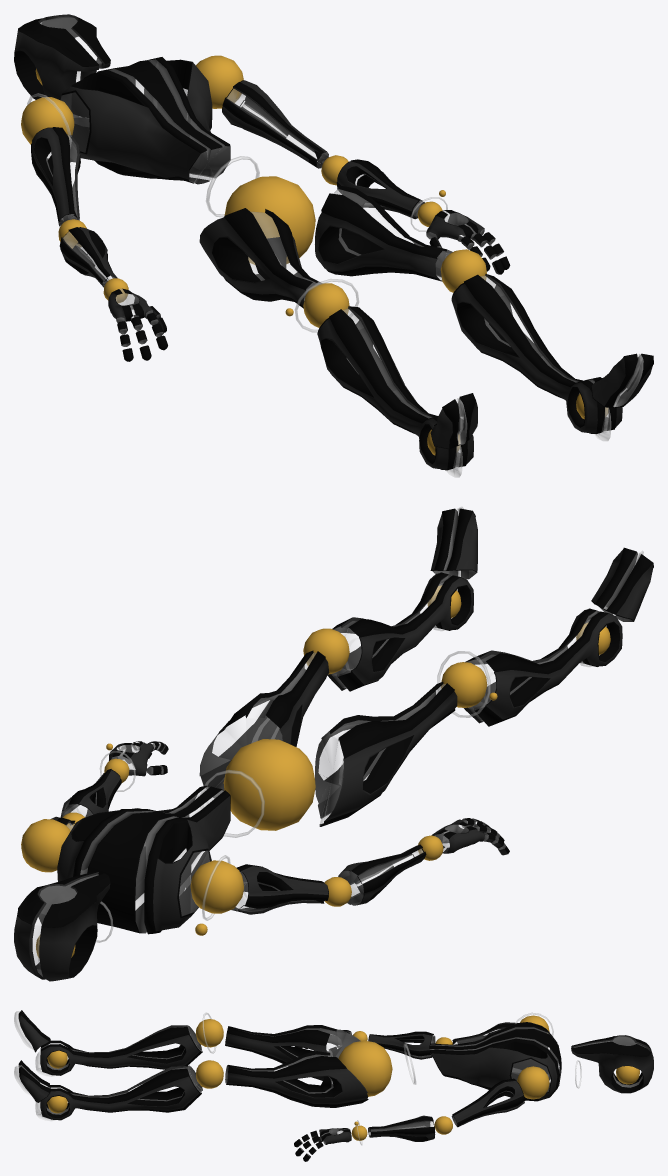
File: Statue Bed.fbx
3 renders of one model, top to bottom at view 1: azimuth 30°, elevation 25°; view 2: azimuth 150°, elevation 25°; view 3: azimuth 270°, elevation 25°, orthographic. The views are drawn at different scales.
Parts seen in each view (by area): view 1: Torso V2; view 2: Torso V2; view 3: Torso V2.
Part boxes in pixels (x1,y1,x2,y2): Torso V2: (14, 14, 653, 477); Torso V2: (14, 506, 653, 981); Torso V2: (14, 1010, 653, 1161).
Size of the model in its own units: 0.796 by 0.2336 by 1.86.
